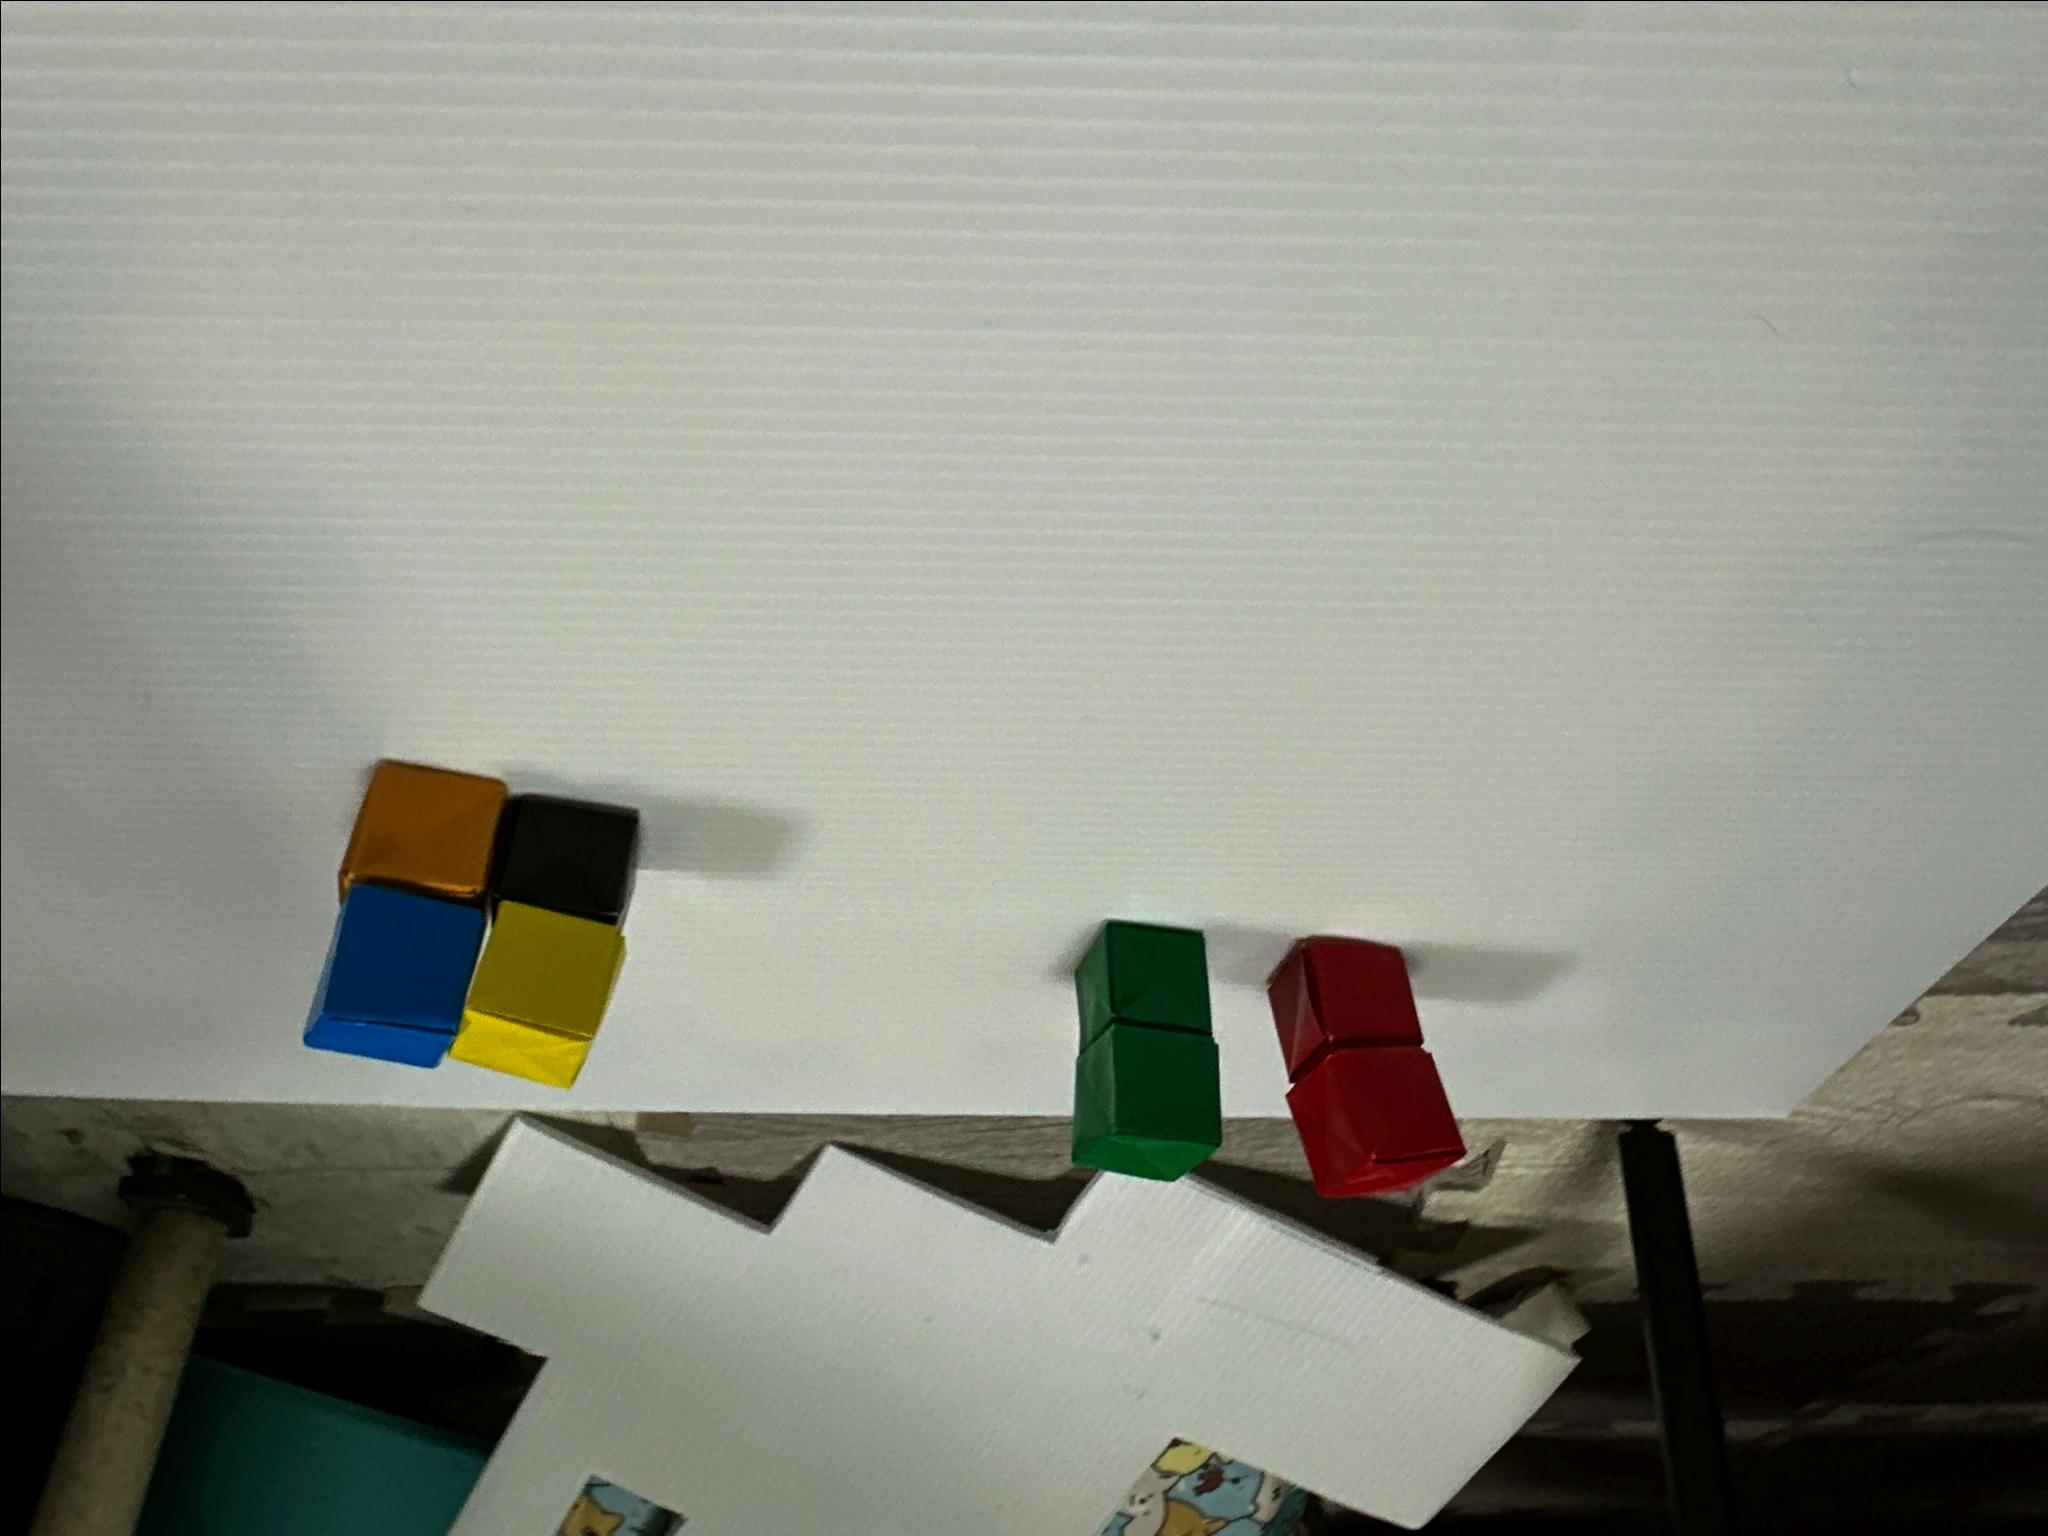cube: (305, 884, 484, 1065), (1287, 1046, 1464, 1197), (339, 762, 506, 905), (1071, 1023, 1221, 1179), (464, 899, 622, 1042), (1266, 939, 1421, 1083), (487, 795, 635, 923), (1074, 921, 1209, 1050), (460, 1052, 572, 1086)
